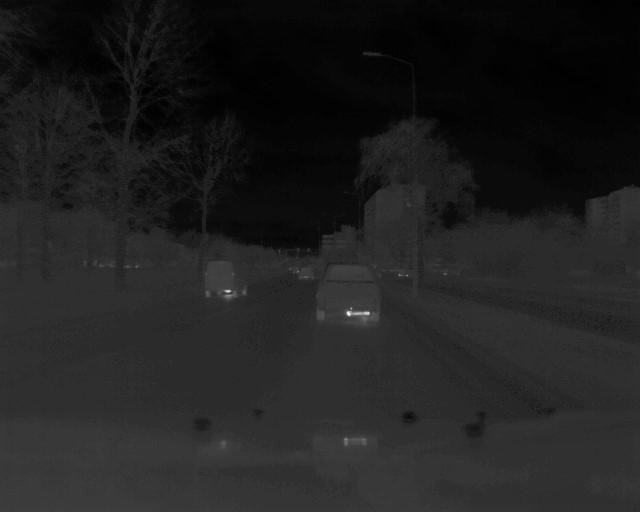car: (317, 264, 383, 325), (205, 260, 248, 300)
